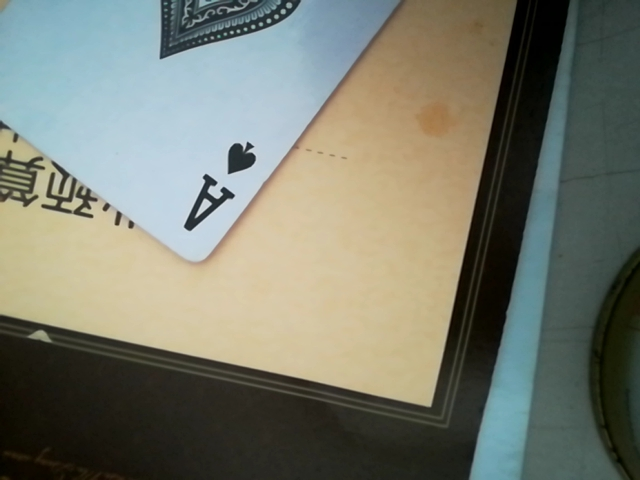ht a: (0, 0, 493, 277)
